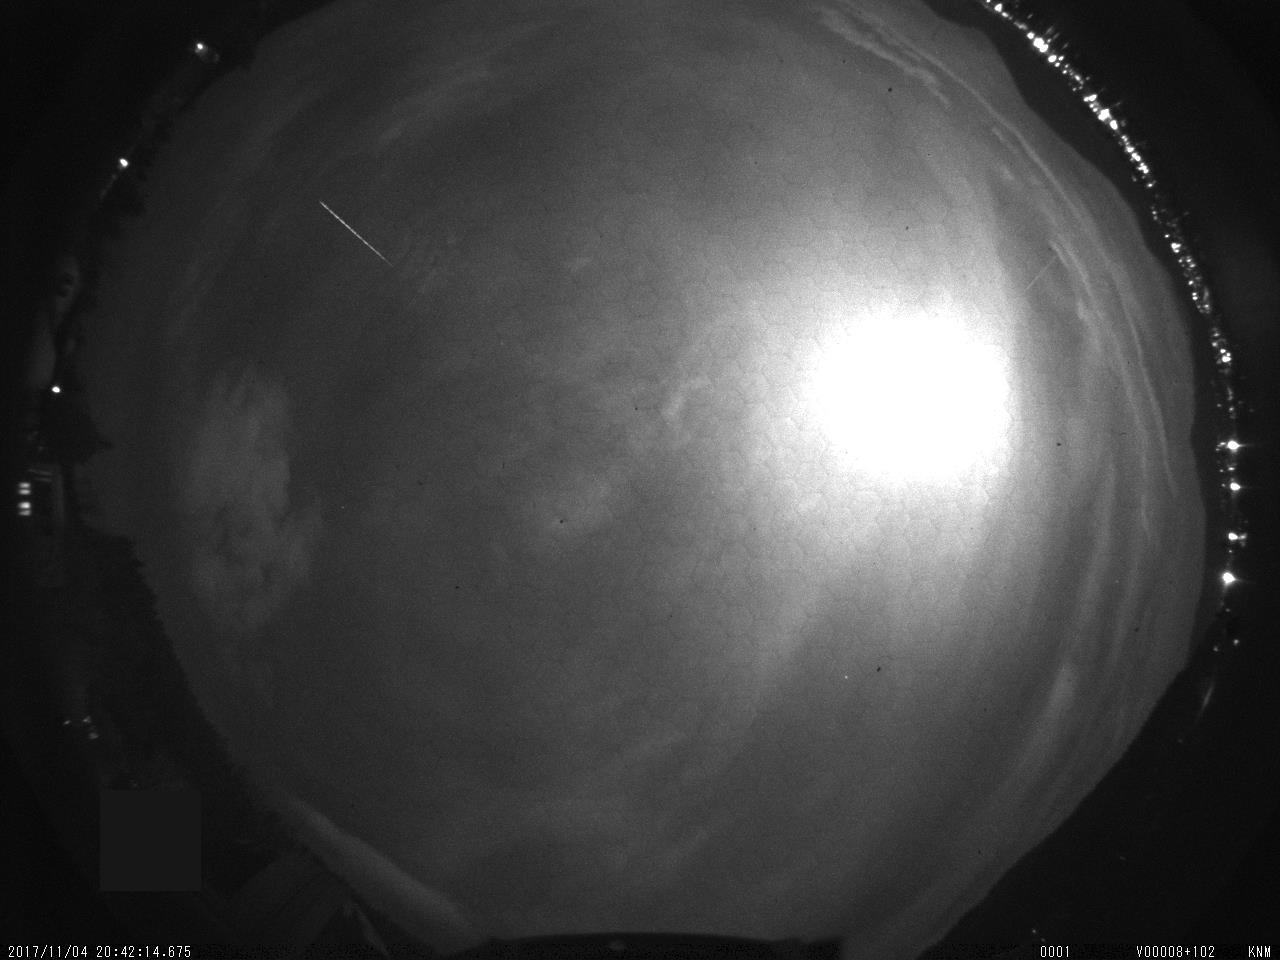meteor: (296, 192, 411, 279)
